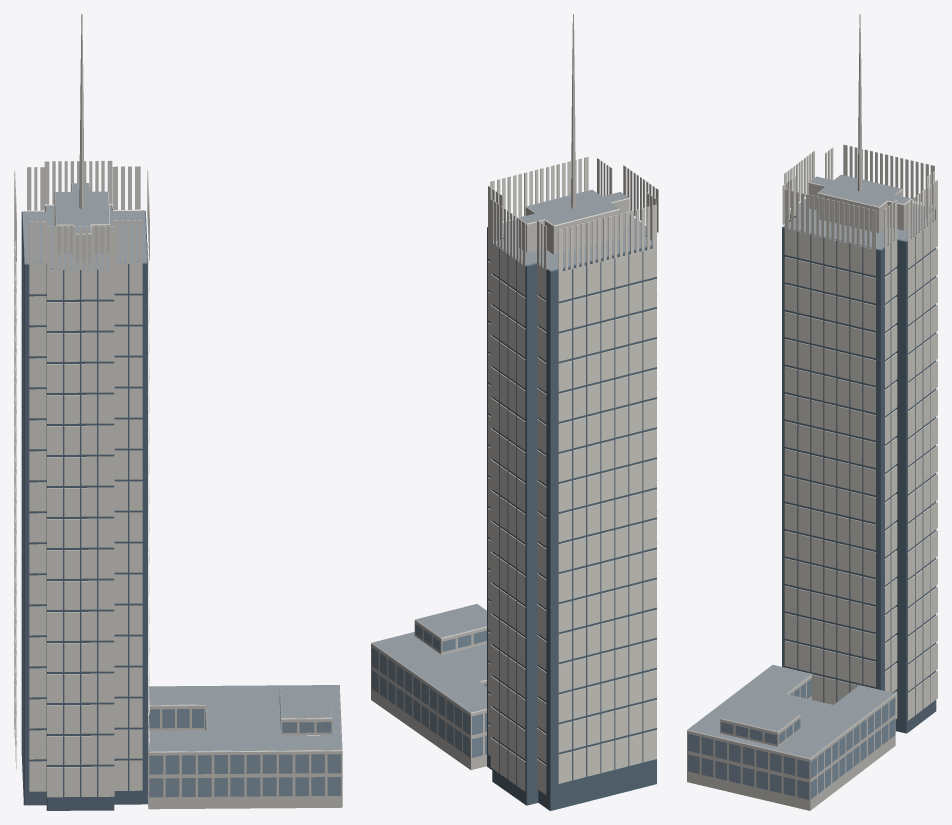
3 views of the same model, side by side, from view 1: azimuth 30°, elevation 25°; view 2: azimuth 150°, elevation 25°; view 3: azimuth 270°, elevation 25° (orthographic). The views are drawn at different scales.
Parts seen in each view (by area): view 1: the-new-york-times-building; view 2: the-new-york-times-building; view 3: the-new-york-times-building.
Boxes of the visible parts, box(x1,y1,x2,y2) form: the-new-york-times-building: box(14, 14, 342, 810); the-new-york-times-building: box(371, 14, 658, 810); the-new-york-times-building: box(687, 14, 937, 810).
Size of the model in its own units: 133 by 319 by 104.
